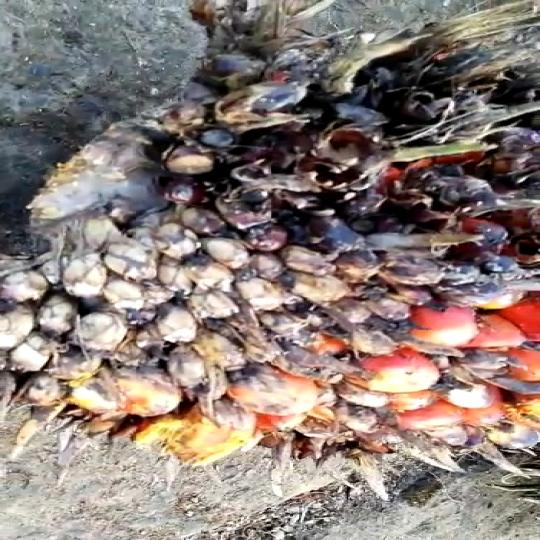terlalu masak: (0, 0, 540, 499)
